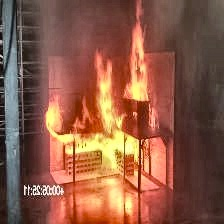fire: (44, 2, 163, 193)
